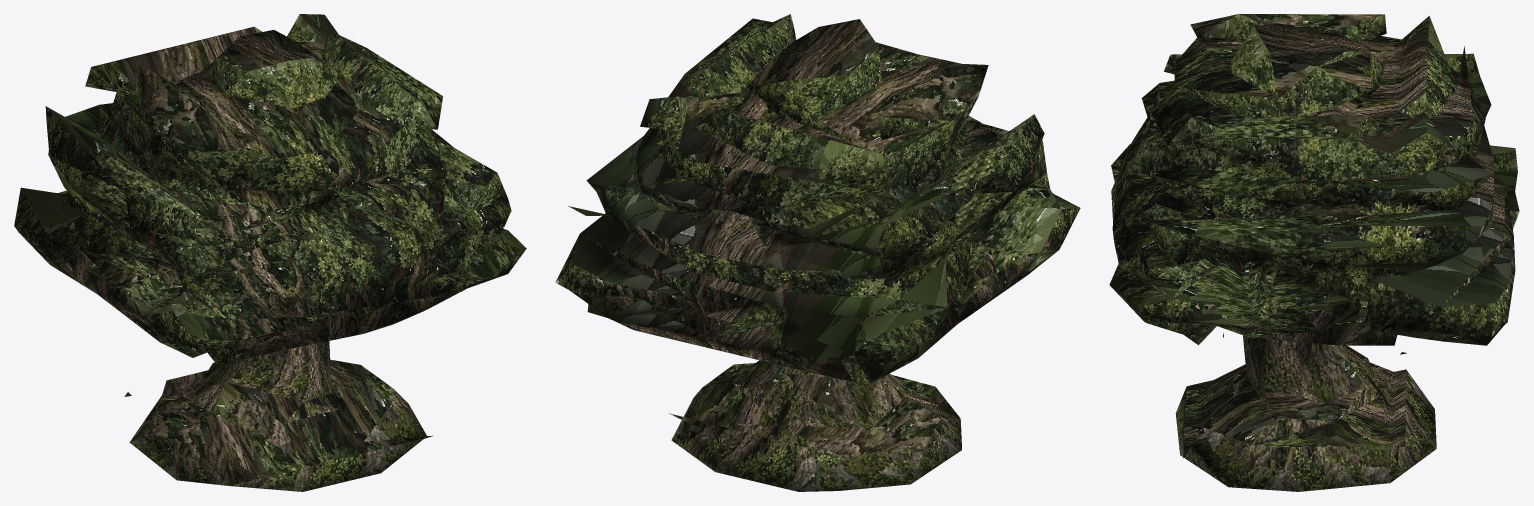
Rendered from garden_tree_high.glb.
The picture shows the model from 3 angles, left to right: view 1: azimuth 30°, elevation 25°; view 2: azimuth 150°, elevation 25°; view 3: azimuth 270°, elevation 25°; orthographic projection.
Parts seen in each view (by area): view 1: garden_tree_high; view 2: garden_tree_high; view 3: garden_tree_high.
Boxes of the visible parts, bbox=[...] form: garden_tree_high: bbox=[14, 14, 526, 491]; garden_tree_high: bbox=[555, 14, 1080, 491]; garden_tree_high: bbox=[1109, 14, 1519, 491].
Size of the model in its own units: 4.97 by 5.43 by 4.97.
1 material, 1 textured.
